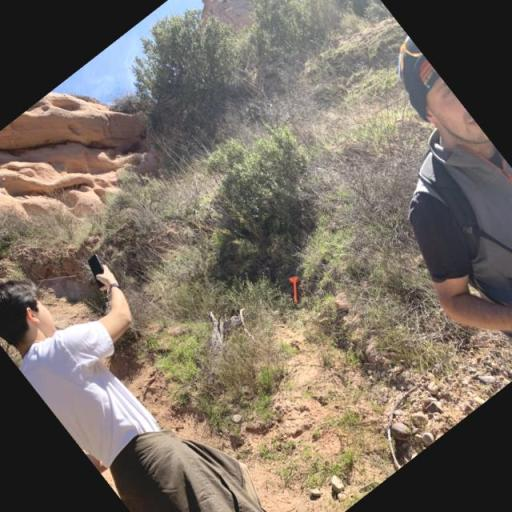mallet: (281, 274, 310, 303)
